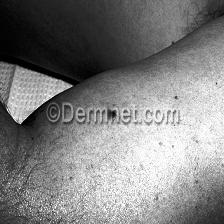Benign Marking or Mole: (110, 108, 118, 121)
